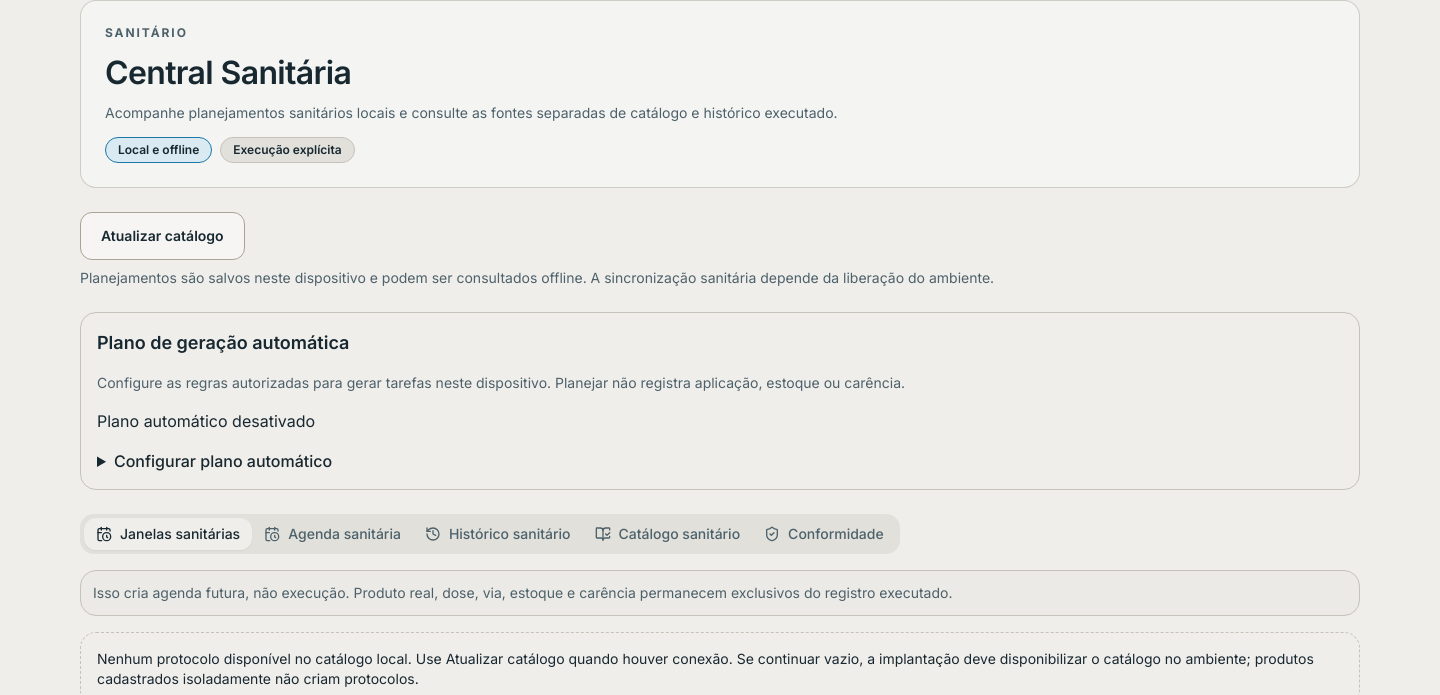
Test: Central Sanitária › renderiza as áreas da central com a aba Conformidade ativa
The image size is (1440, 695).
Expected: the heading "Central Sanitária" is shown, [105,53,351,92]
Expected: the tab "Janelas sanitárias" is shown, [84,518,252,550]
What coordinates should you click on to do the following:
click the tab "Conformidade"
I would click on:
 (824, 534)
Its box is [752,518,896,550].
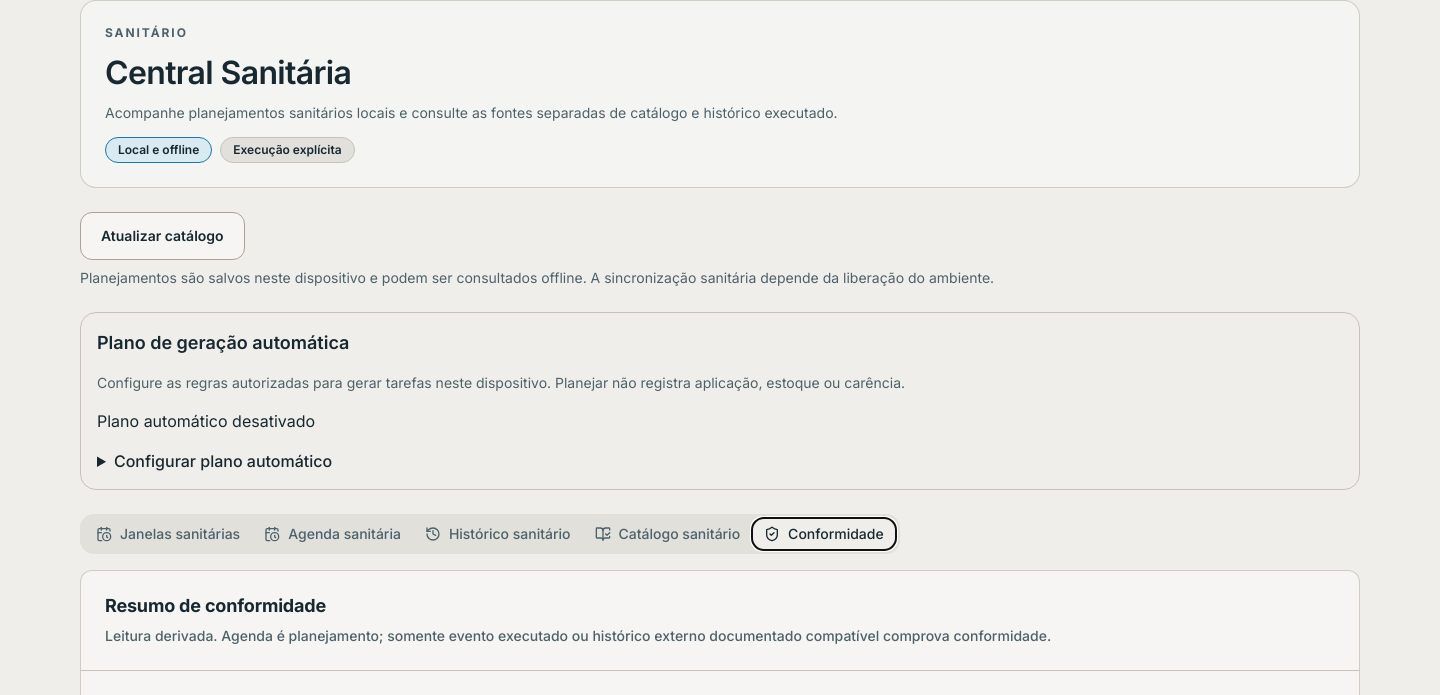
Expected: the heading "Resumo de conformidade" is shown, [105,595,326,616]
